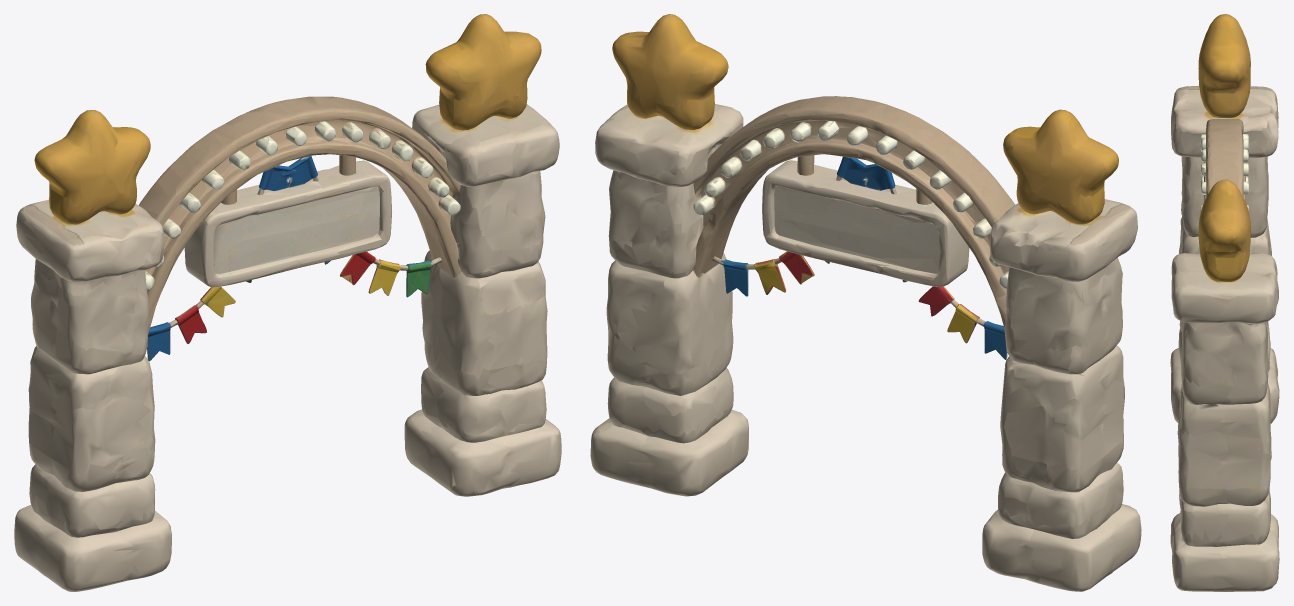
File: arco.glb
The picture shows the model from 3 angles, left to right: view 1: azimuth 30°, elevation 25°; view 2: azimuth 150°, elevation 25°; view 3: azimuth 270°, elevation 25°; orthographic projection. The views are drawn at different scales.
Visible parts, largest first — view 1: output_unwrapped; view 2: output_unwrapped; view 3: output_unwrapped.
Boxes of the visible parts, x1,y1,x2,y2 form: output_unwrapped: [14, 14, 561, 591]; output_unwrapped: [590, 14, 1141, 591]; output_unwrapped: [1170, 14, 1279, 591].
Size of the model in its own units: 1.9 by 1.64 by 0.414.
1 material, 1 textured.
